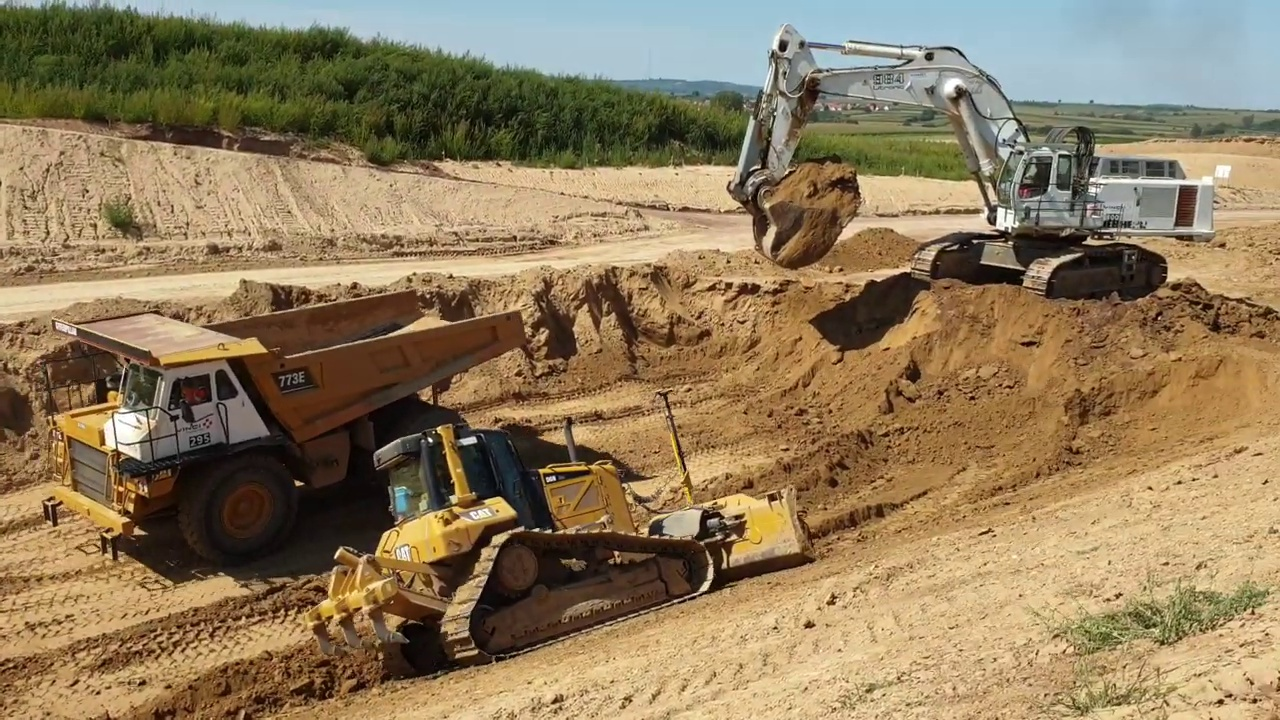bulldozer: (298, 385, 826, 671)
excavator: (722, 16, 1228, 312)
truck: (39, 285, 540, 572)
